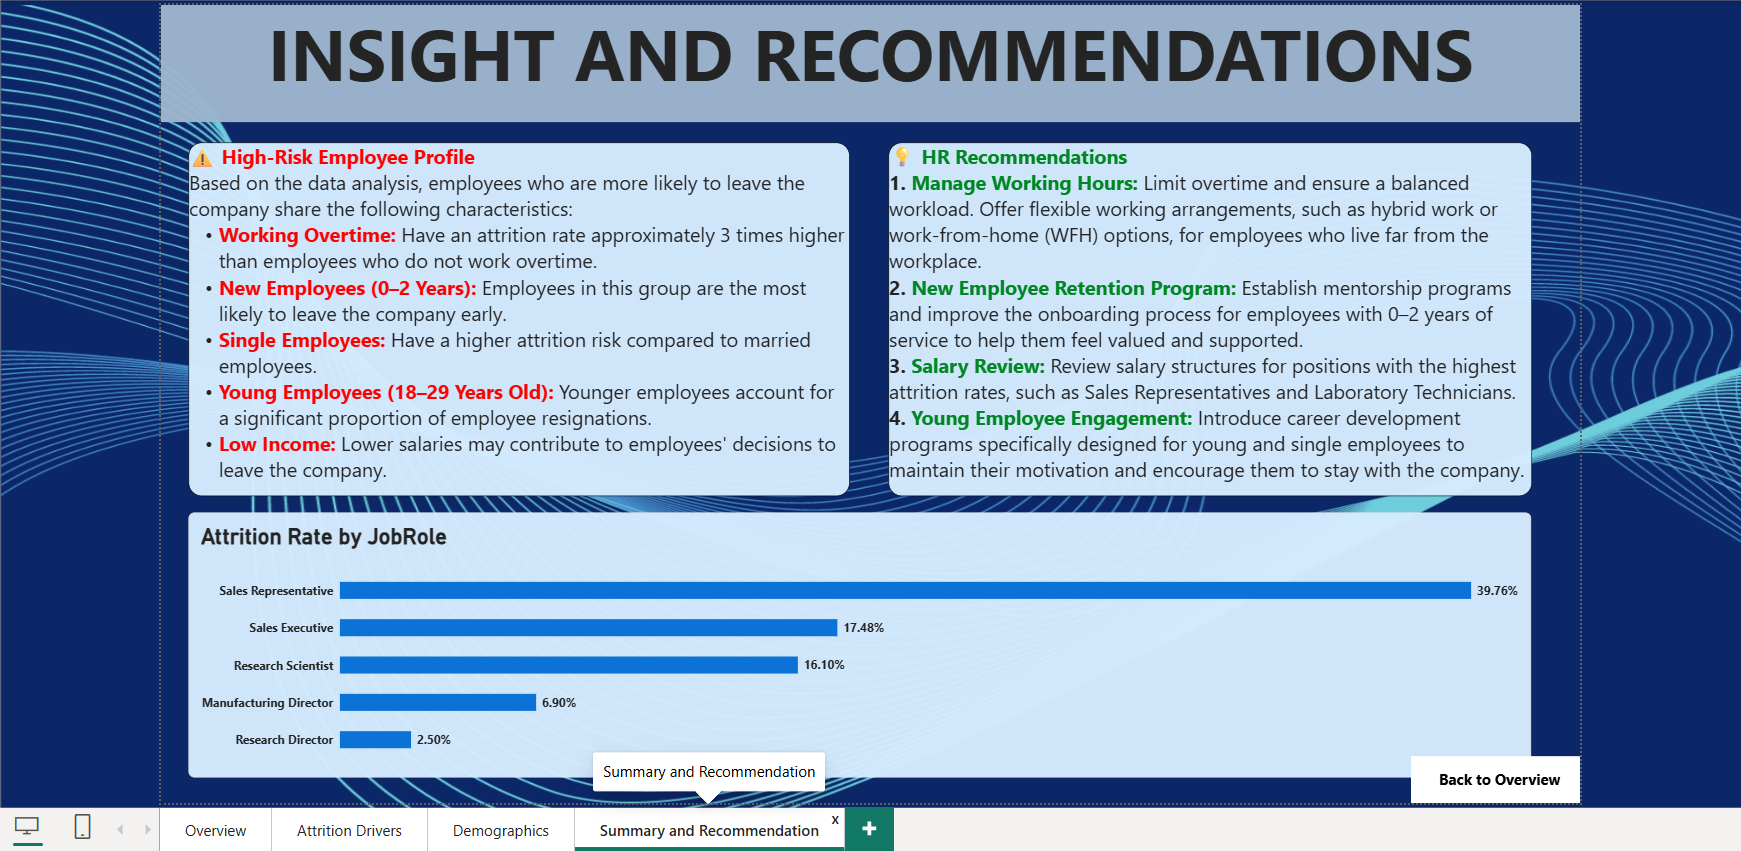

The dashboard page shown, as its layout file describes it:
{"tool":"powerbi","page":{"name":"Summary and Recommendation","canvas":[1920,1080],"ordinal":3},"visuals":[{"type":"clusteredBarChart","fields":{"Category":["Employees.JobRole"],"Y":["Employees.Attrition Rate"]},"box":[38,686,1816,358],"z":0},{"type":"textbox","box":[38,186,894,478],"z":1000},{"type":"textbox","box":[984,186,870,478],"z":2000},{"type":"textbox","box":[0,0,1920,158],"z":3000},{"type":"actionButton","box":[1690,1016,230,64],"z":3001}]}

Visuals, with their boxes on the page's 1920x1080 design canvas (x1, y1, x2, y2). These are canvas units, not pixel positions in the 1741x851 screenshot, which may show the page scaled, cropped or inside an application window:
clusteredBarChart - Employees.JobRole x Employees.Attrition Rate: region(38, 686, 1854, 1044)
textbox: region(38, 186, 932, 664)
textbox: region(984, 186, 1854, 664)
textbox: region(0, 0, 1920, 158)
actionButton: region(1690, 1016, 1920, 1080)
